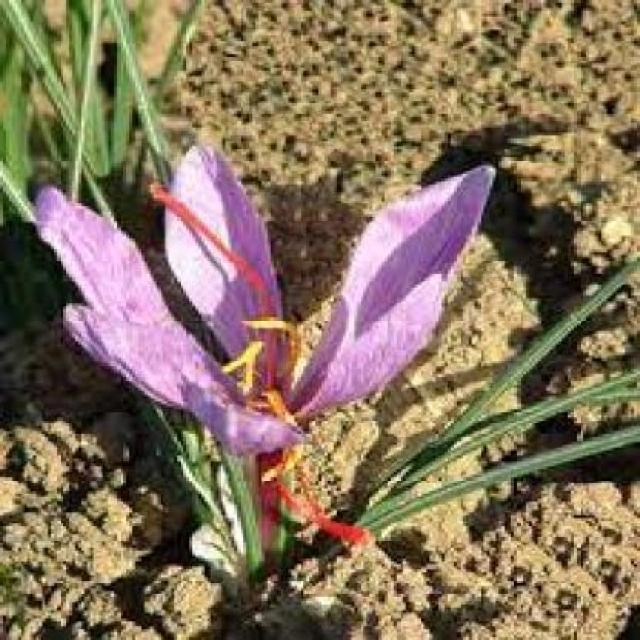Flower: (33, 148, 504, 458)
stigma: (147, 176, 283, 377), (270, 478, 376, 554)
